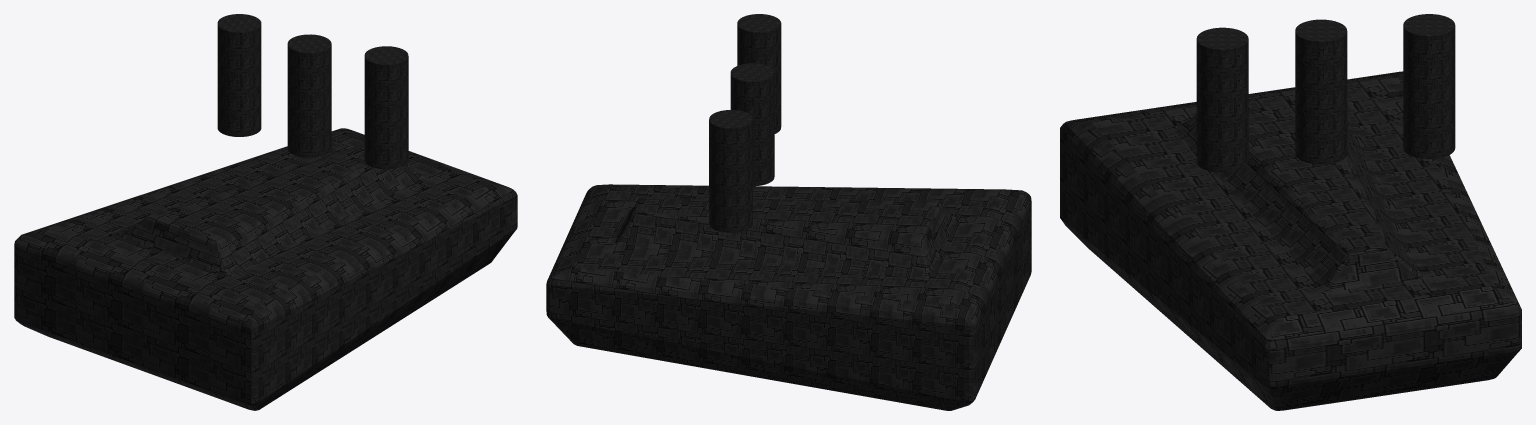
The model's file is xenolavos-outpost.glb.
3 renders of one model, left to right at view 1: azimuth 30°, elevation 25°; view 2: azimuth 150°, elevation 25°; view 3: azimuth 270°, elevation 25°, orthographic. The views are drawn at different scales.
Parts seen in each view (by area): view 1: Cube, Cylinder.001, Cylinder.002, Cylinder.003; view 2: Cube, Cylinder.003, Cylinder.002, Cylinder.001; view 3: Cube, Cylinder.001, Cylinder.002, Cylinder.003.
Part boxes in pixels (left/top/right/bottom): Cube: left=14, top=128, right=517, bottom=410; Cylinder.001: left=364, top=46, right=408, bottom=169; Cylinder.002: left=287, top=34, right=331, bottom=157; Cylinder.003: left=217, top=14, right=261, bottom=136; Cube: left=546, top=184, right=1031, bottom=410; Cylinder.003: left=709, top=110, right=752, bottom=232; Cylinder.002: left=730, top=63, right=774, bottom=186; Cylinder.001: left=737, top=14, right=781, bottom=133; Cube: left=1060, top=71, right=1521, bottom=410; Cylinder.001: left=1196, top=27, right=1248, bottom=172; Cylinder.002: left=1295, top=19, right=1347, bottom=164; Cylinder.003: left=1403, top=14, right=1455, bottom=159.
Bounding box in the file's own units: 1.53 × 0.8912 × 1.17.
Materials: 1 (1 with a texture image).
